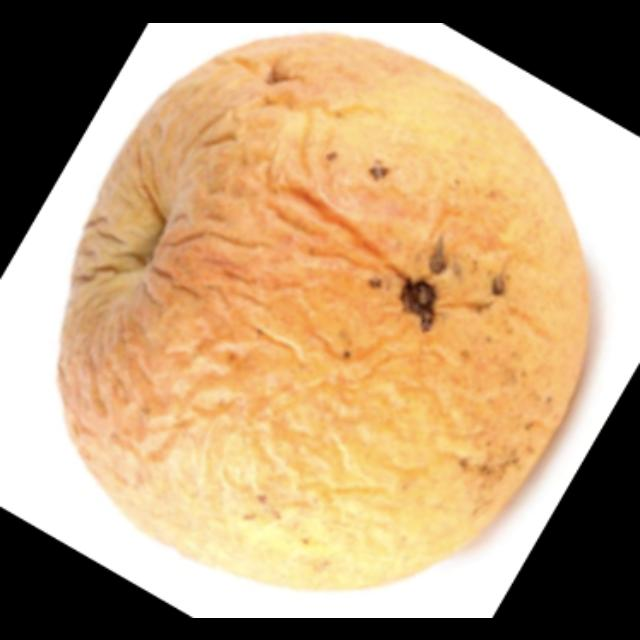Apel Tidak Segar: (53, 28, 597, 596)
